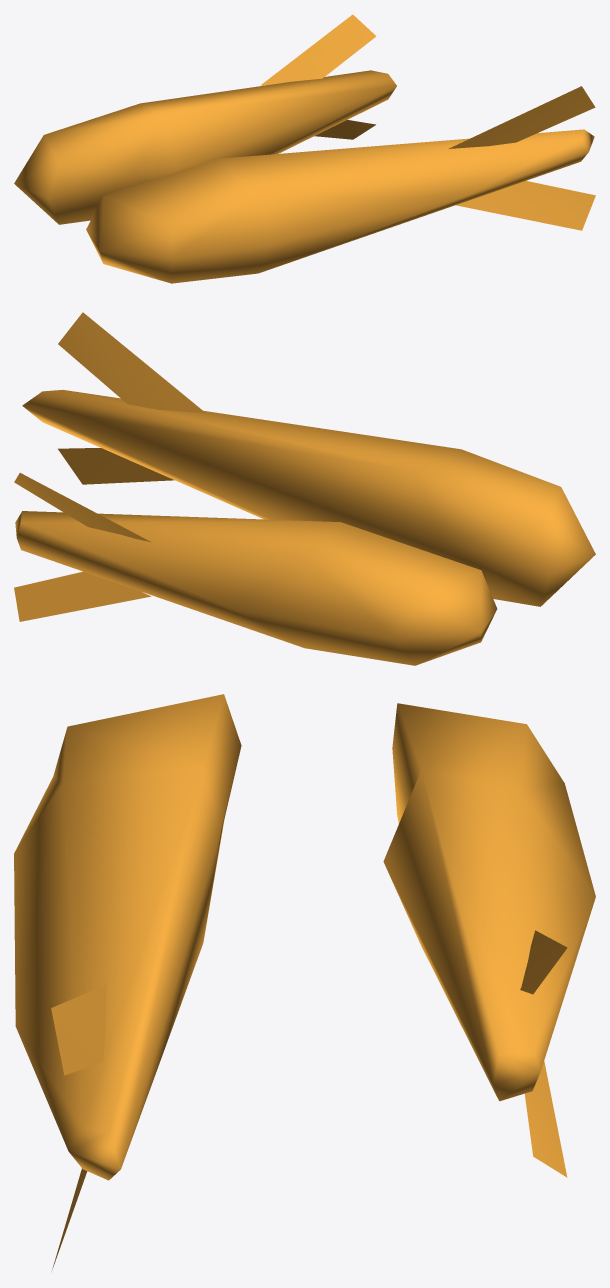
File: plasma_rifle_01.FBX
3 renders of one model, top to bottom at view 1: azimuth 30°, elevation 25°; view 2: azimuth 150°, elevation 25°; view 3: azimuth 270°, elevation 25°, orthographic. The views are drawn at different scales.
Visible parts, largest first — view 1: Object001.001; view 2: Object001.001; view 3: Object001.001.
Part boxes in pixels (x1=…): Object001.001: x1=14, y1=14, x2=595, y2=283; Object001.001: x1=14, y1=312, x2=595, y2=665; Object001.001: x1=14, y1=694, x2=595, y2=1271.
Size of the model in its own units: 5.26 by 1.49 by 2.96.
